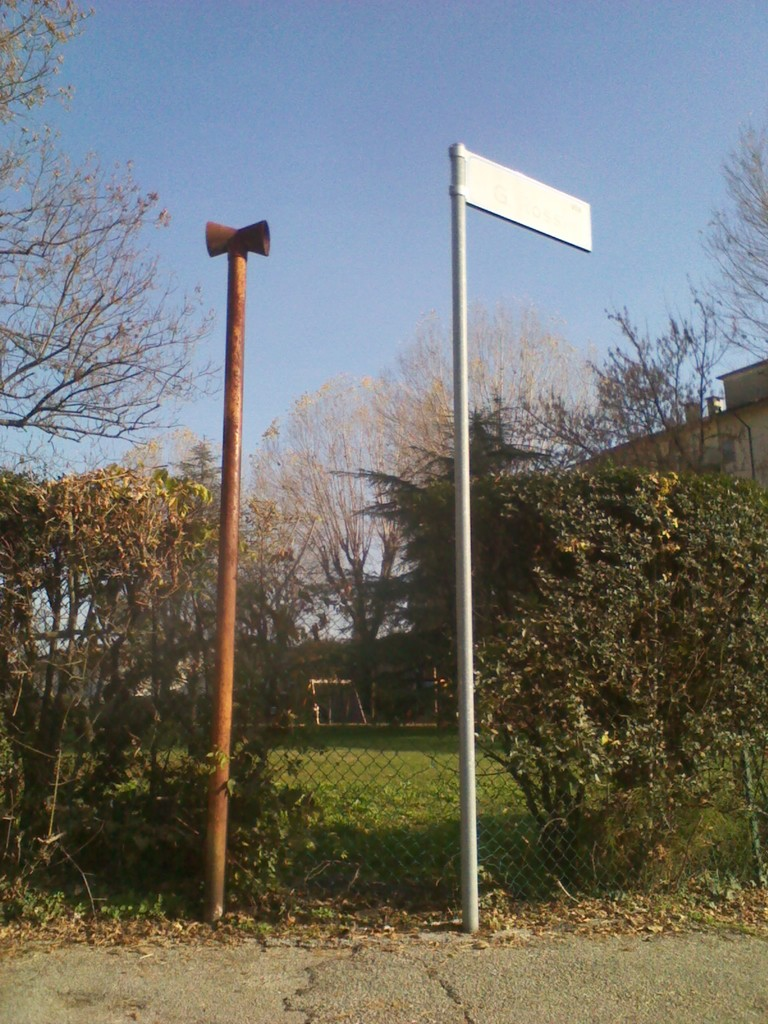Tree: (0, 292, 767, 908), (0, 0, 220, 451), (680, 124, 767, 378)
